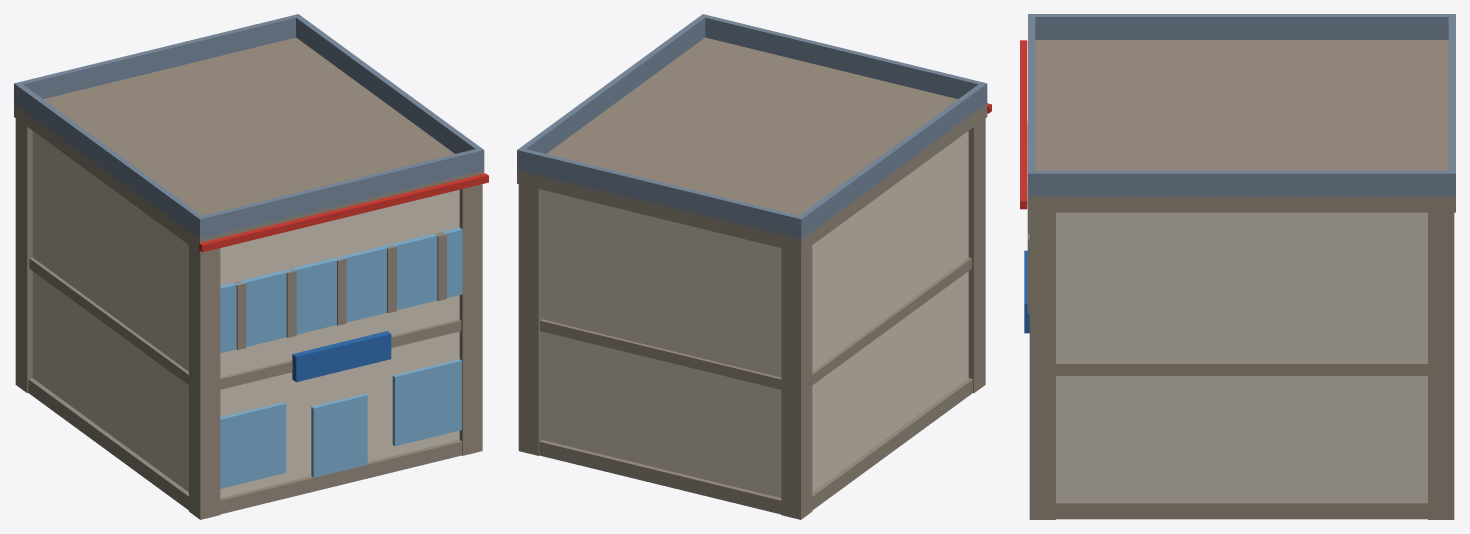
Rendered from pitsOffice.glb.
3 views of the same model, side by side, from view 1: azimuth 30°, elevation 25°; view 2: azimuth 150°, elevation 25°; view 3: azimuth 270°, elevation 25° (orthographic). The views are drawn at different scales.
Visible parts, largest first — view 1: pitsOffice_concreteDark, pitsOffice_concrete, pitsOffice_glass, pitsOffice_steel, pitsOffice_red, pitsOffice_blue; view 2: pitsOffice_concrete, pitsOffice_concreteDark, pitsOffice_steel; view 3: pitsOffice_concrete, pitsOffice_concreteDark, pitsOffice_steel, pitsOffice_red.
Part boxes in pixels (<box>): pitsOffice_concreteDark: <box>14,37,484,519</box>; pitsOffice_concrete: <box>32,131,459,497</box>; pitsOffice_glass: <box>220,227,462,488</box>; pitsOffice_steel: <box>14,14,484,239</box>; pitsOffice_red: <box>199,173,488,252</box>; pitsOffice_blue: <box>292,331,391,382</box>; pitsOffice_concrete: <box>542,131,968,497</box>; pitsOffice_concreteDark: <box>517,37,987,519</box>; pitsOffice_steel: <box>517,14,987,239</box>; pitsOffice_concrete: <box>1056,212,1427,500</box>; pitsOffice_concreteDark: <box>1027,40,1455,519</box>; pitsOffice_steel: <box>1028,14,1455,197</box>; pitsOffice_red: <box>1020,40,1027,209</box>.
Bounding box in the file's own units: 13 × 13.06 × 14.88.
